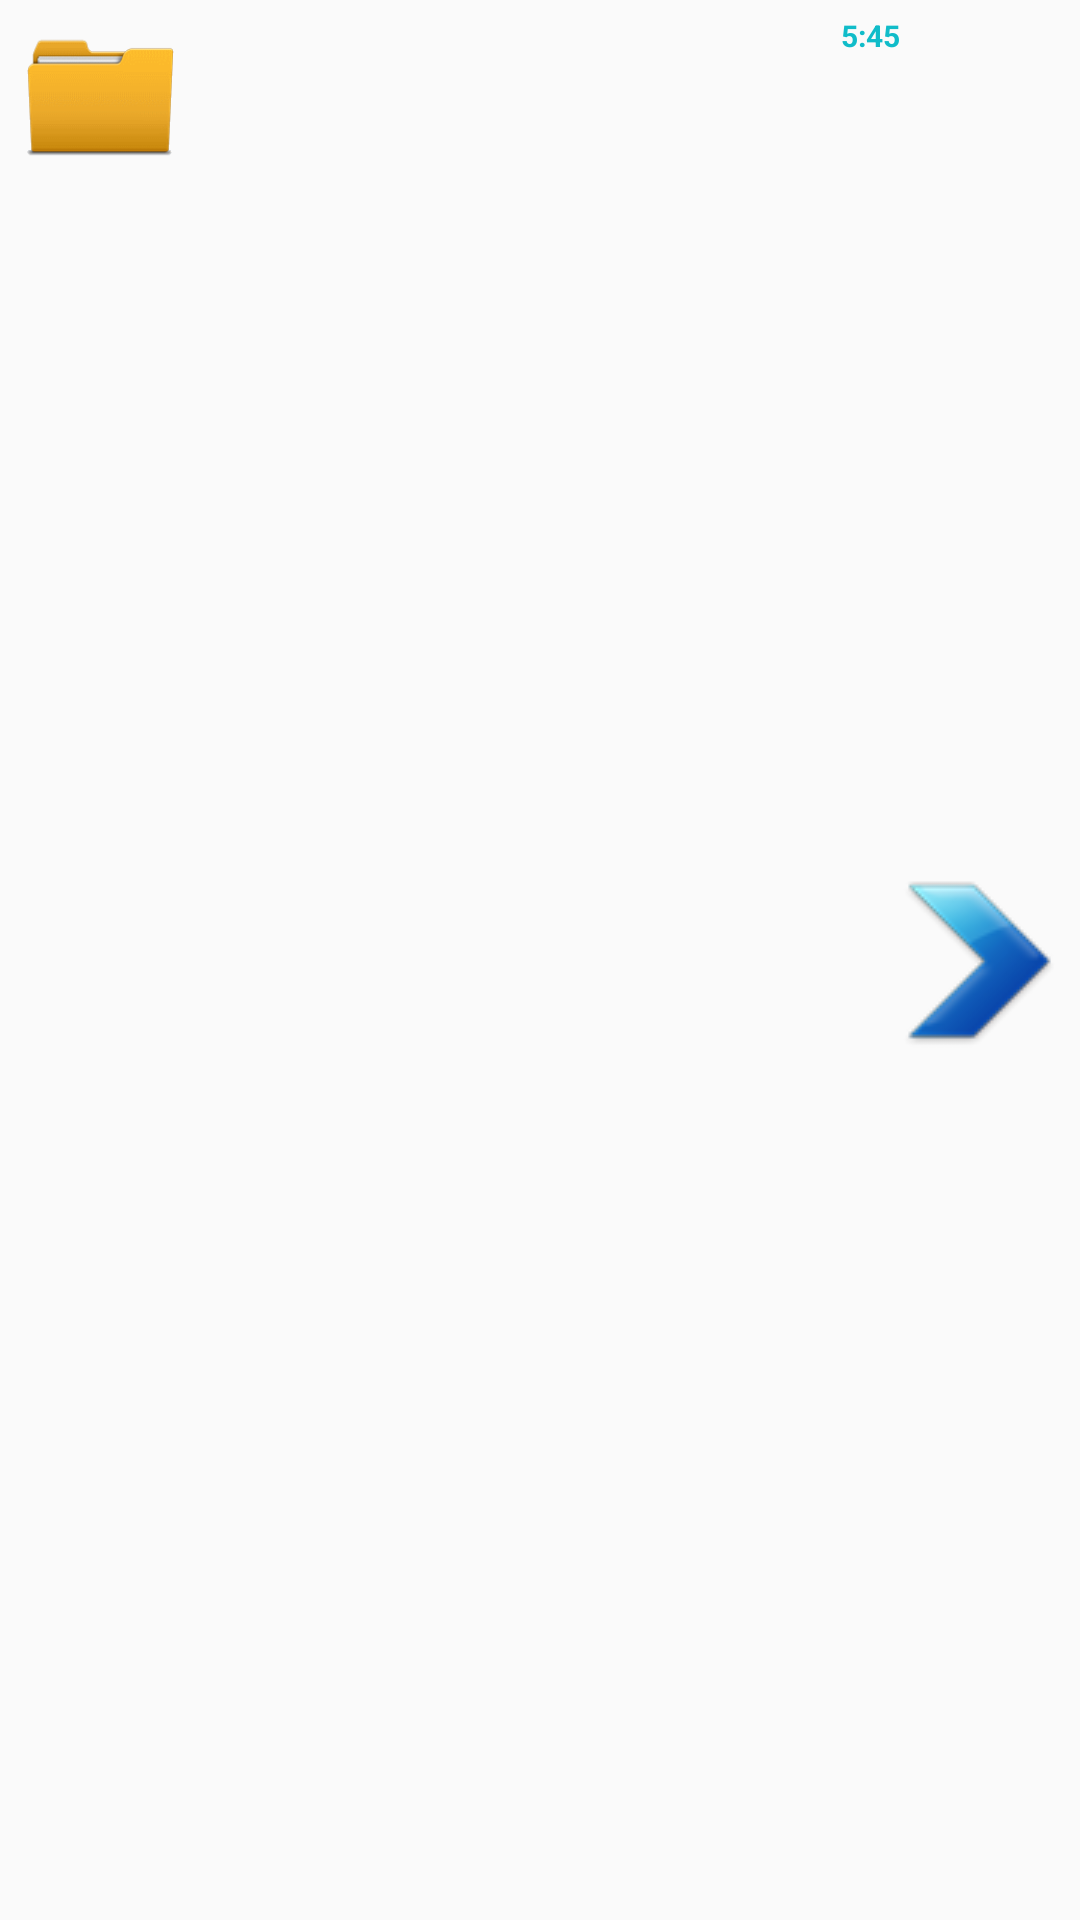

Icon bounding boxes for this 1080px×1920px phone screenshot, format (x1, y1, x2, y2):
arrow: (908, 883, 1051, 1041)
folder: (27, 40, 174, 155)
